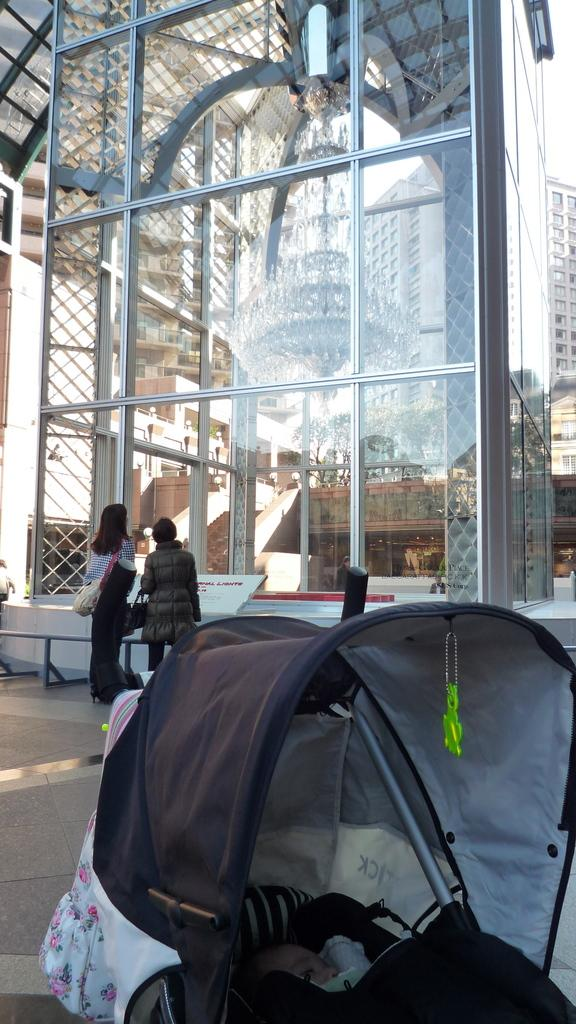Luggage-and-bags: (81, 600, 410, 1021), (42, 669, 180, 1023)
